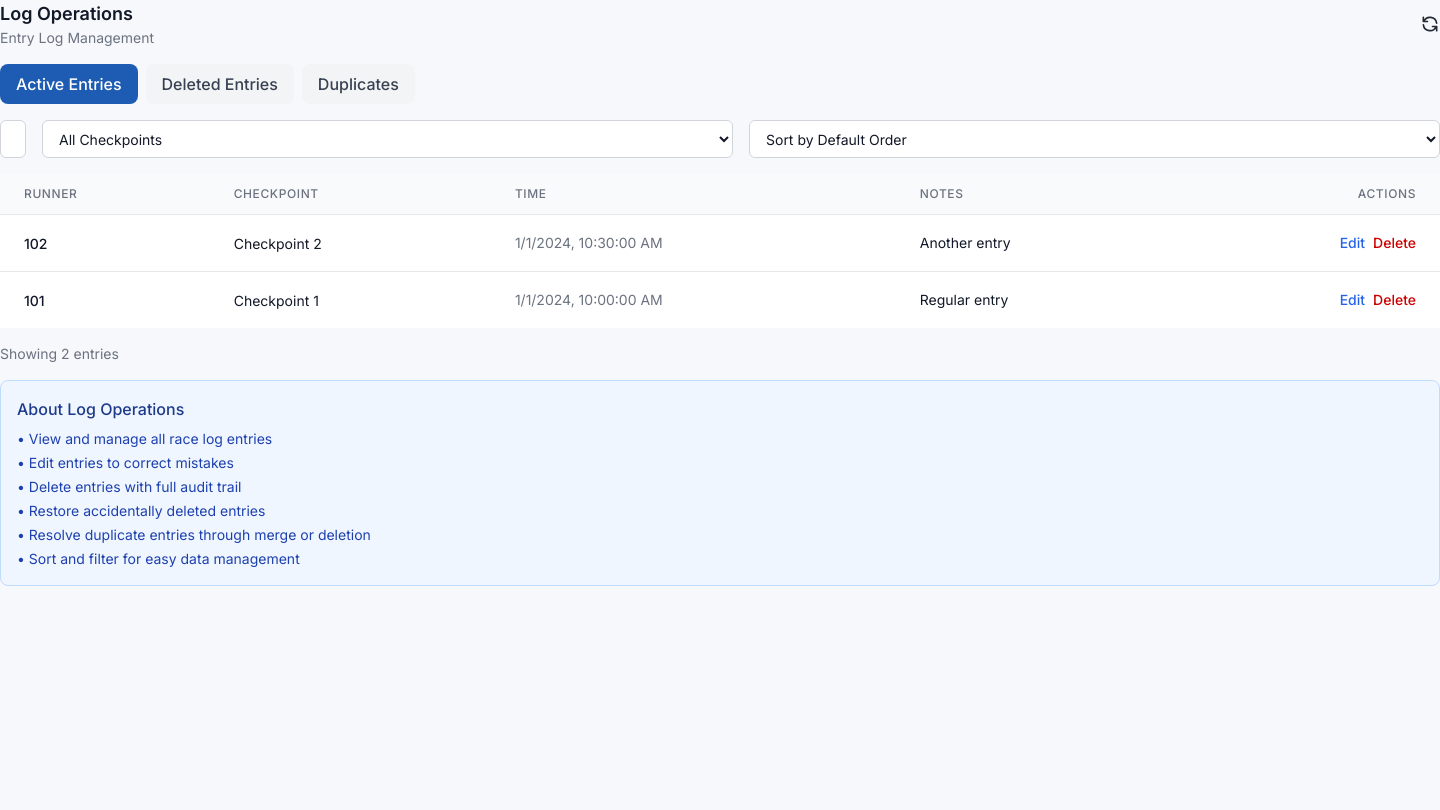
Test: LogOperationsPanel › validates edit form
The image size is (1440, 810).
Note: Open edit modal
Click the button "Edit" in the row of "102" at (1352, 243), box [1340,233,1365,253]
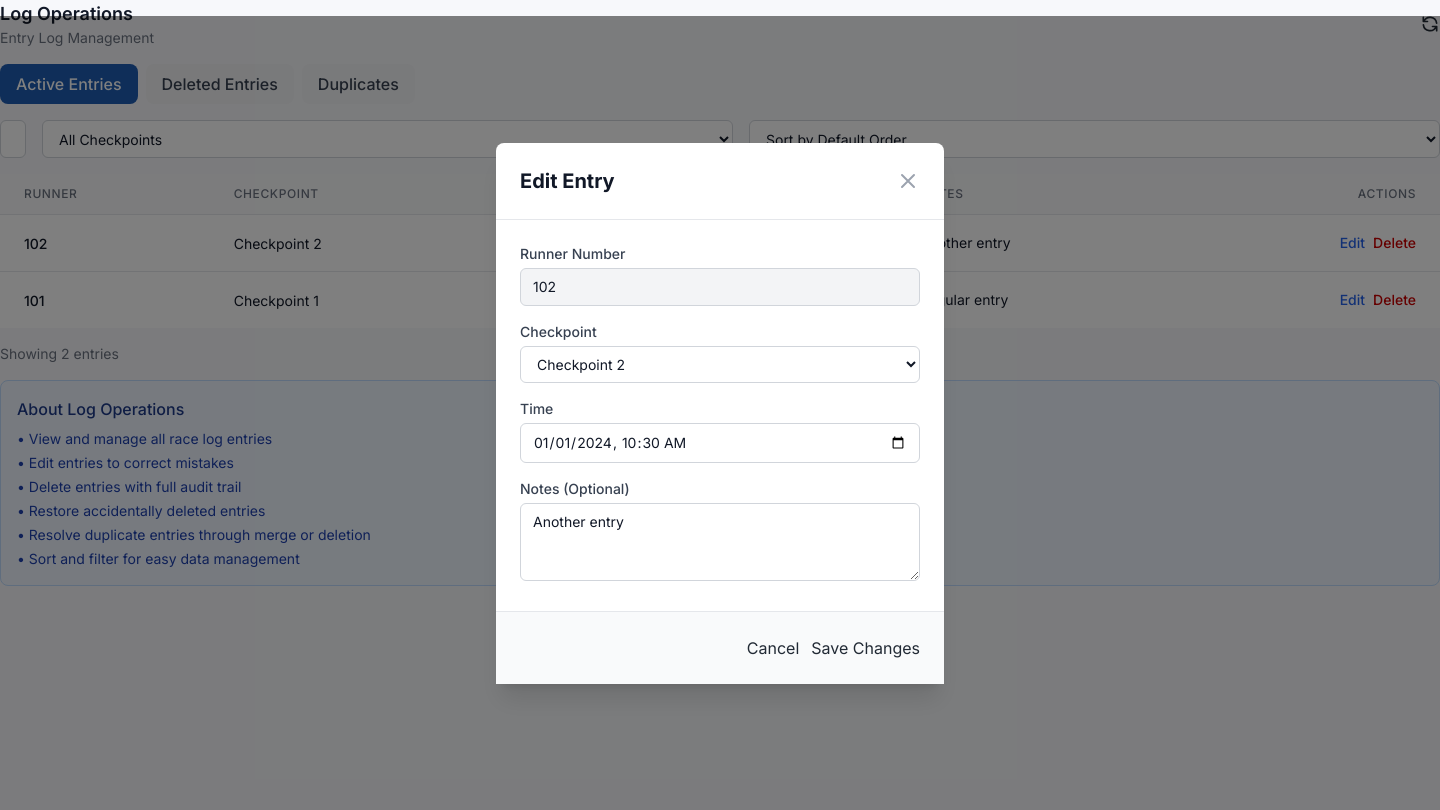
Note: Try to save
Click the button "Save Changes" at (866, 648), box [811,636,920,660]
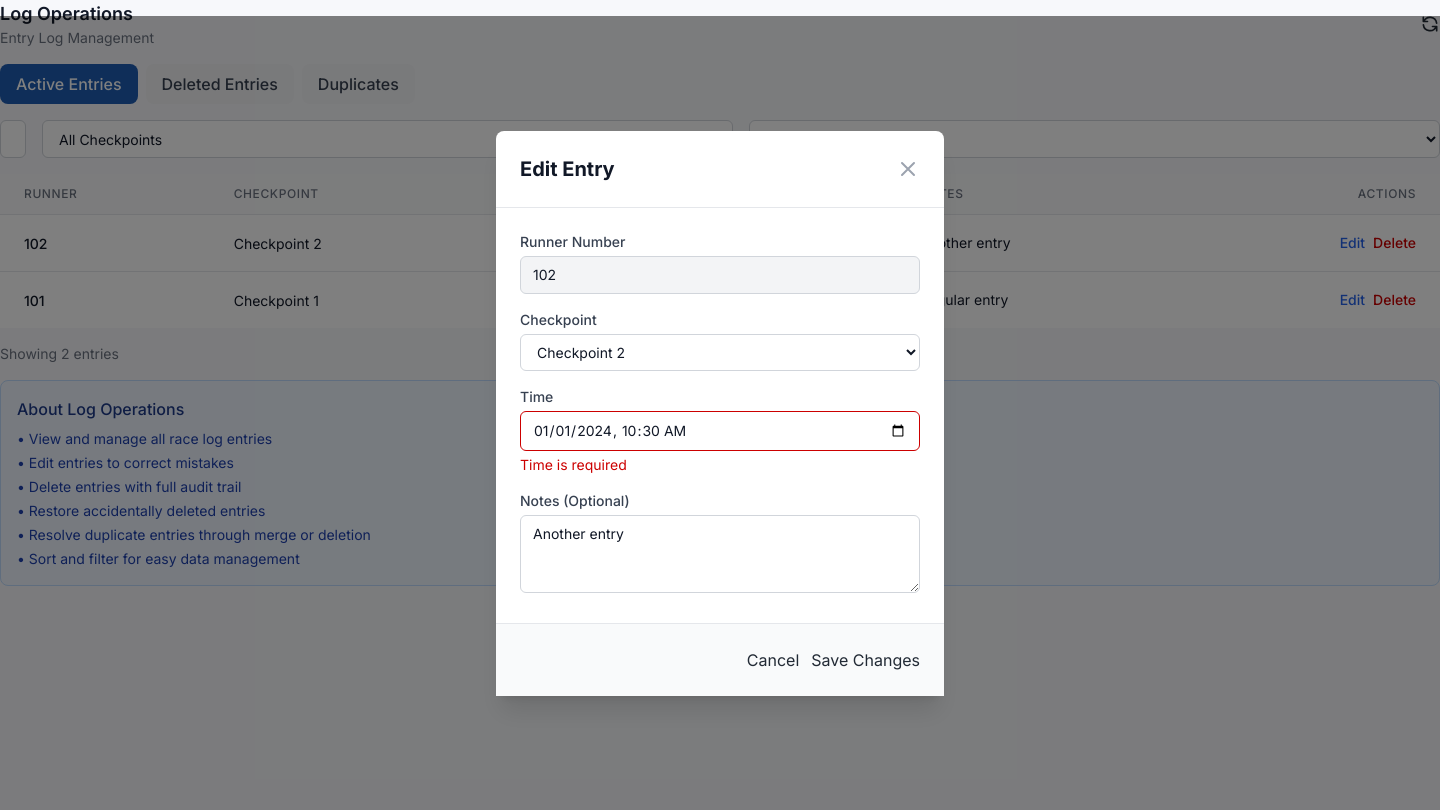
Check: the text "Time is required" is shown, box [520,456,627,472]
